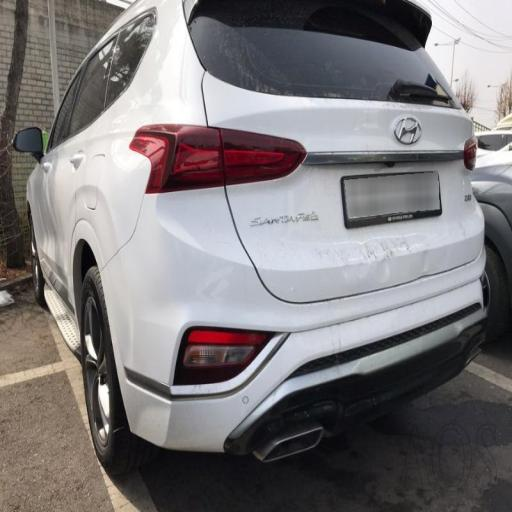dent: (284, 205, 442, 328)
